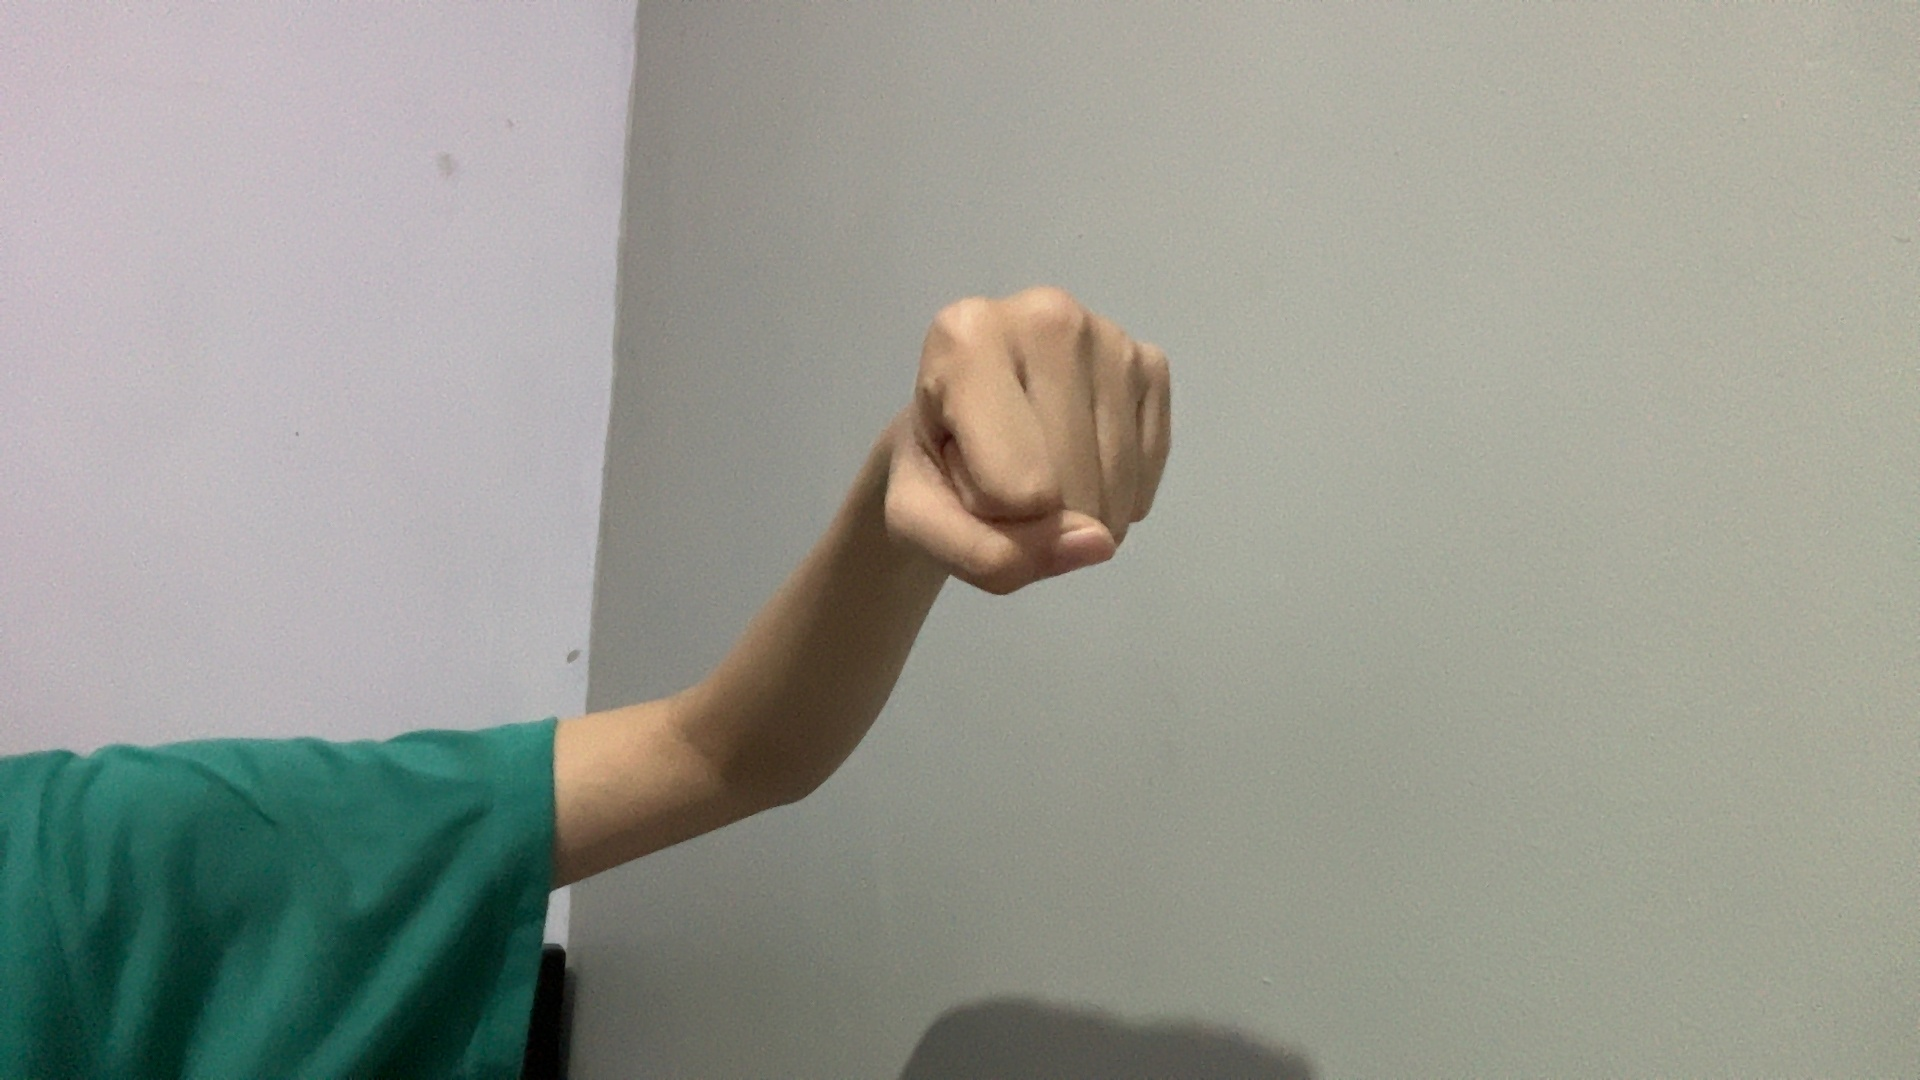Yes: (694, 142, 1402, 774)
